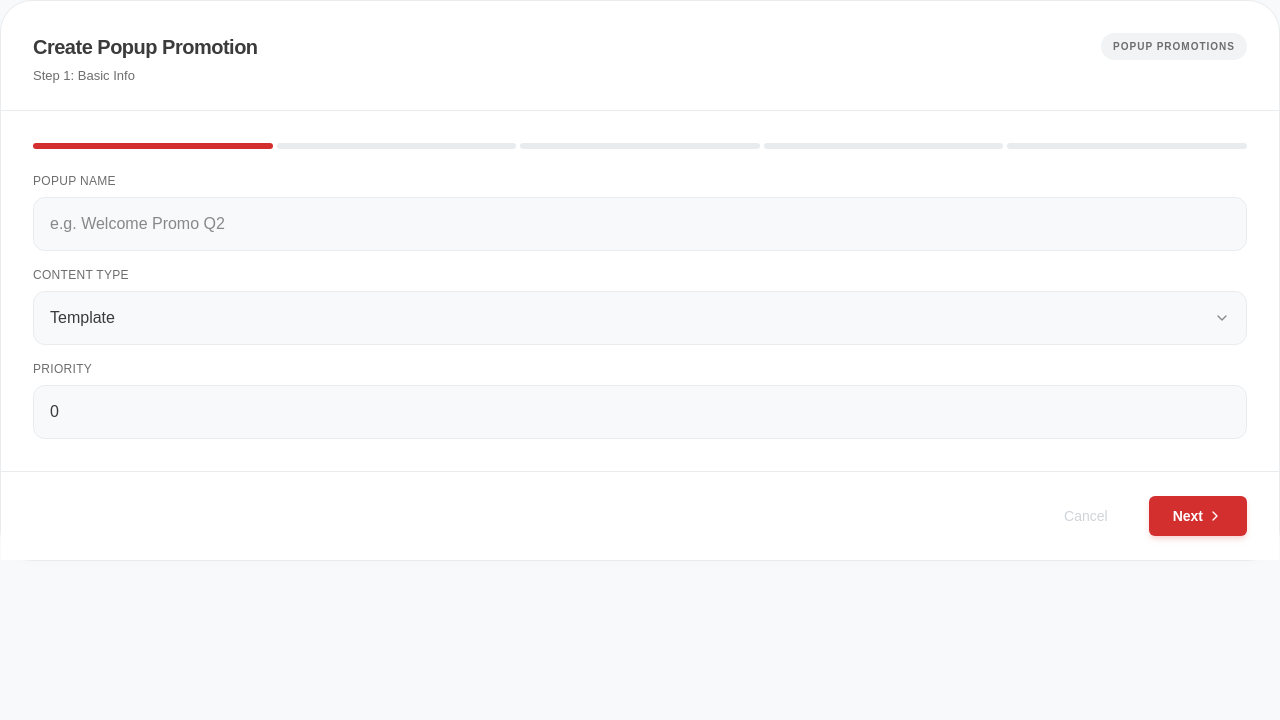
PopupPromotionCreatePage › step navigation › navigates back on Back click
The width and height of the screenshot is (1280, 720).
Step 1. Click the button "Next" → (1198, 516), box [1149, 496, 1247, 536]
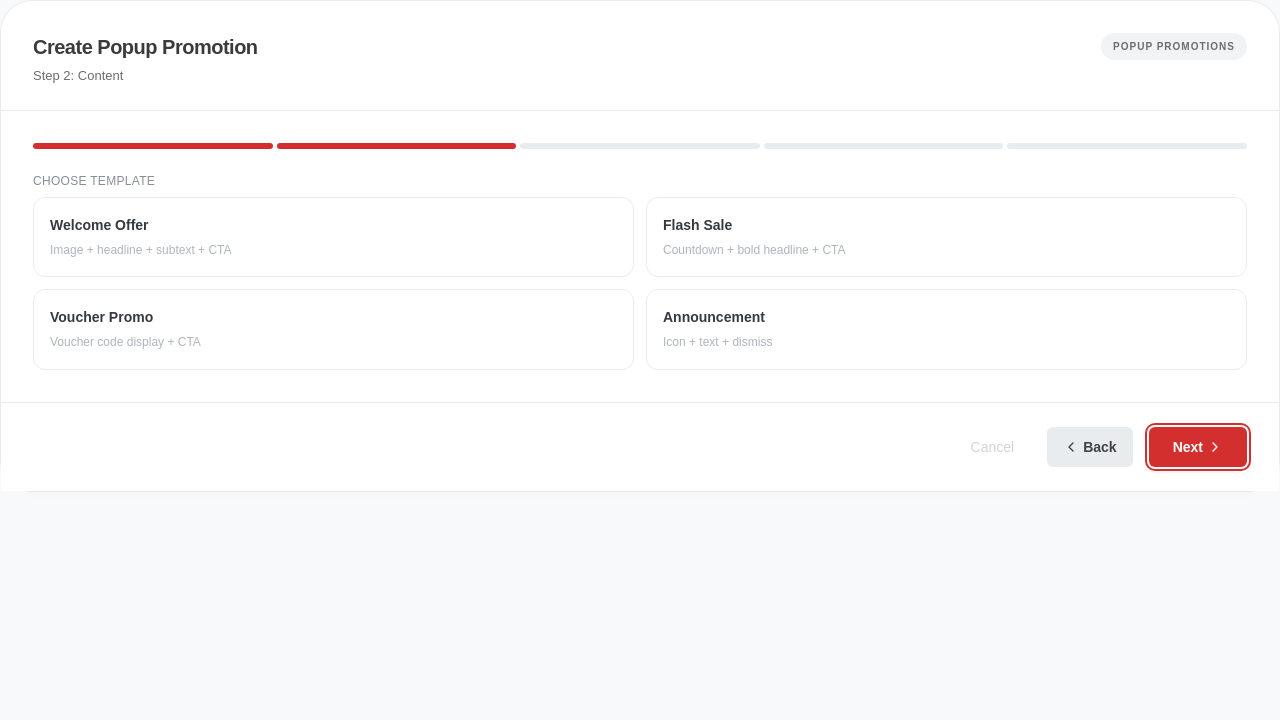
Step 2. Click the button "Back" → (1090, 447), box [1047, 427, 1133, 467]
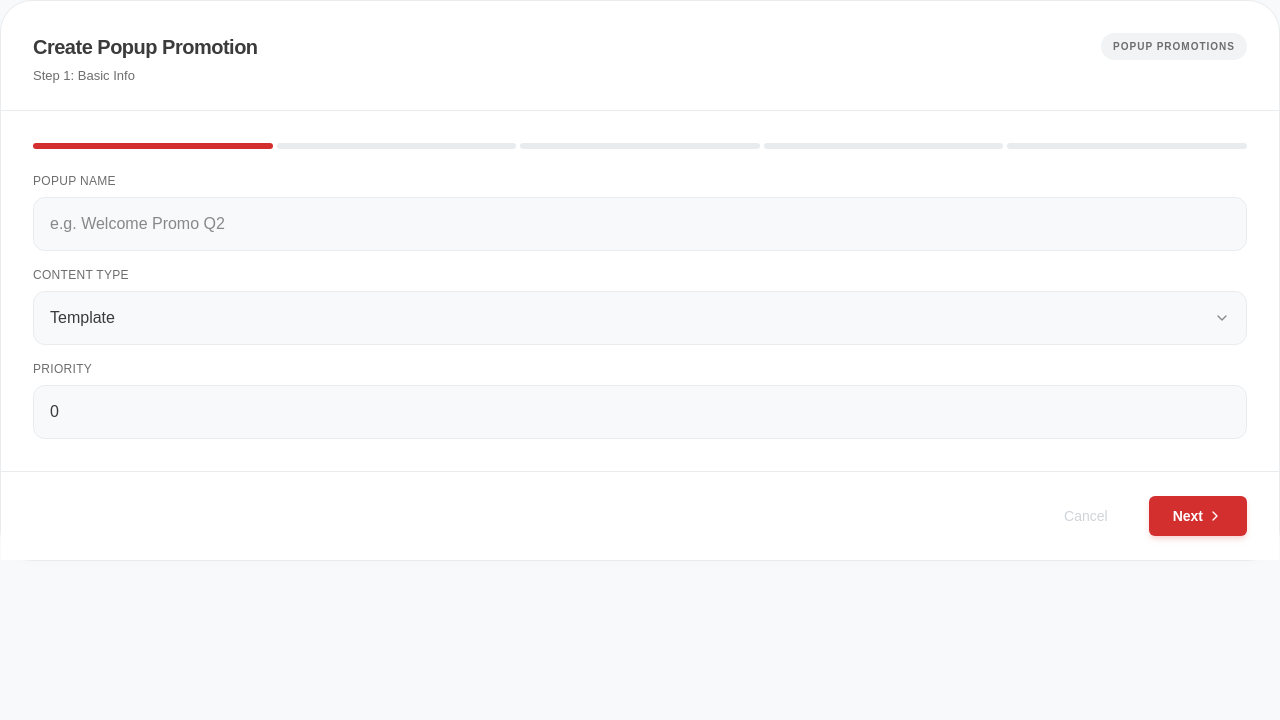
Now the text "Step 1: Basic Info" is shown, box [33, 68, 135, 83]
